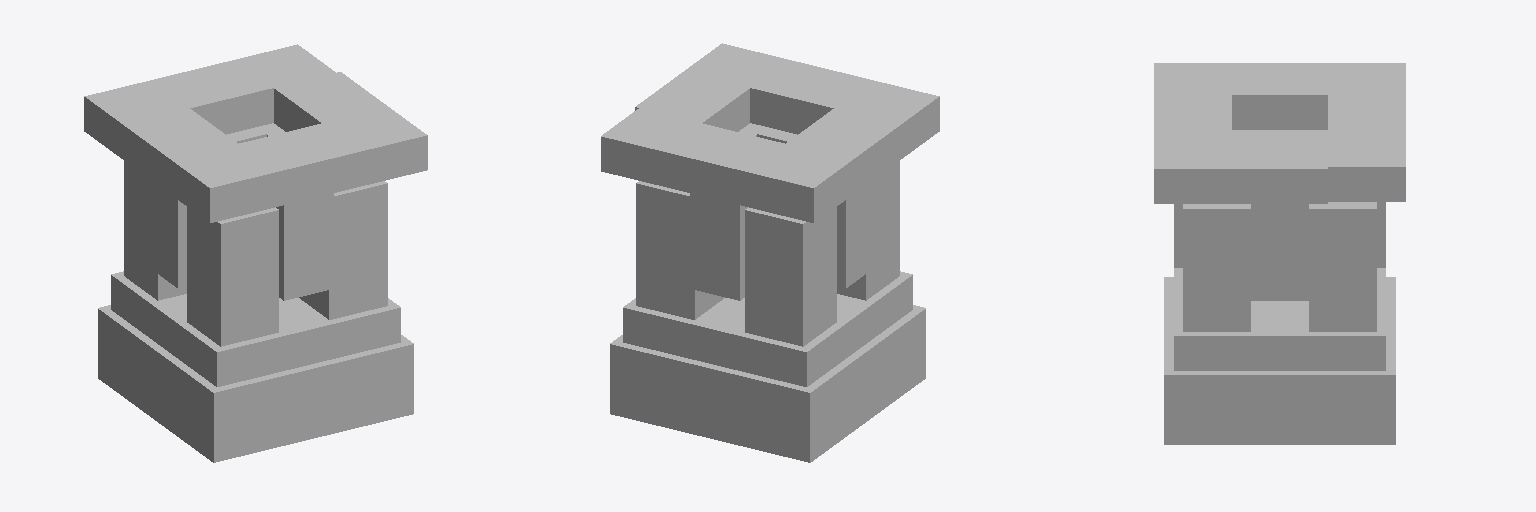
Rendered from generator.obj.
The picture shows the model from 3 angles: view 1: azimuth 30°, elevation 25°; view 2: azimuth 150°, elevation 25°; view 3: azimuth 270°, elevation 25°; orthographic projection.
Parts seen in each view (by area): view 1: base, top_platform2, low_platform, top_platform3, side3, side4, amp1, top_platform1, top_platform4, side2, amp2; view 2: base, top_platform3, low_platform, top_platform2, side2, side1, amp4, top_platform1, top_platform4, side3, amp2; view 3: base, low_platform, top_platform2, top_platform3, side1, side4, top_platform4, top_platform1, amp3, amp4, amp1.
Part boxes in pixels (x1,y1,x2,y2): base: (98,305,413,462); top_platform2: (171,107,427,222); low_platform: (111,271,400,386); top_platform3: (84,44,335,158); side3: (187,207,278,346); side4: (299,181,387,319); amp1: (276,193,333,300); top_platform1: (123,109,237,194); top_platform4: (274,72,387,131); side2: (124,161,186,300); amp2: (149,179,186,288); base: (610,305,925,462); top_platform3: (601,108,852,222); low_platform: (623,271,912,386); top_platform2: (684,43,939,158); side2: (745,207,836,346); side1: (636,181,724,319); amp4: (690,193,747,300); top_platform1: (786,109,900,194); top_platform4: (635,72,749,131); side3: (837,161,899,300); amp2: (837,179,874,288); base: (1164,277,1395,444); low_platform: (1174,268,1385,370); top_platform2: (1154,63,1231,203); top_platform3: (1328,63,1405,201); side1: (1309,202,1376,331); side4: (1183,204,1250,331); top_platform4: (1232,136,1327,203); top_platform1: (1232,63,1327,129); amp3: (1251,204,1308,300); amp4: (1377,202,1385,267); amp1: (1174,204,1182,267).
Bounding box in the file's own units: 3.25 × 4 × 3.25.